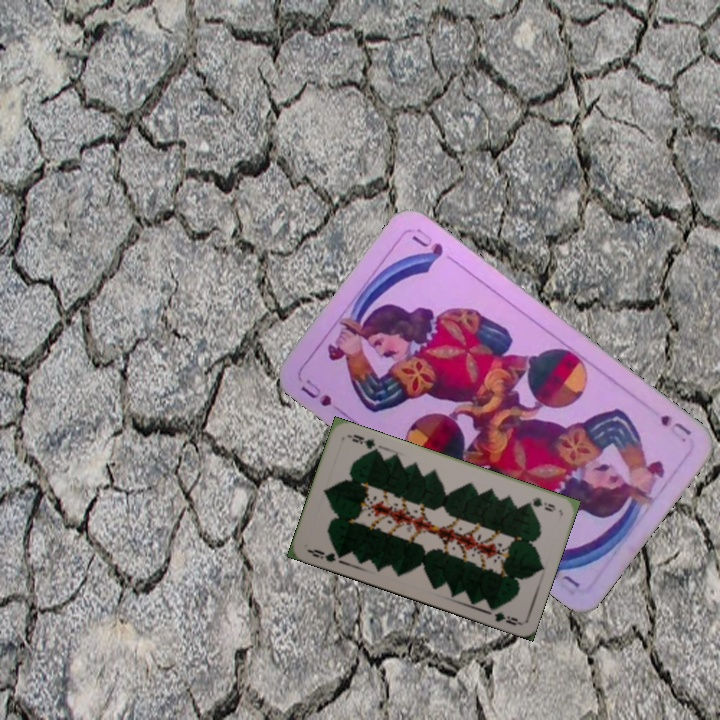G9: (304, 545, 346, 565), (522, 494, 559, 515)
SU: (296, 374, 348, 416), (656, 410, 694, 446)
